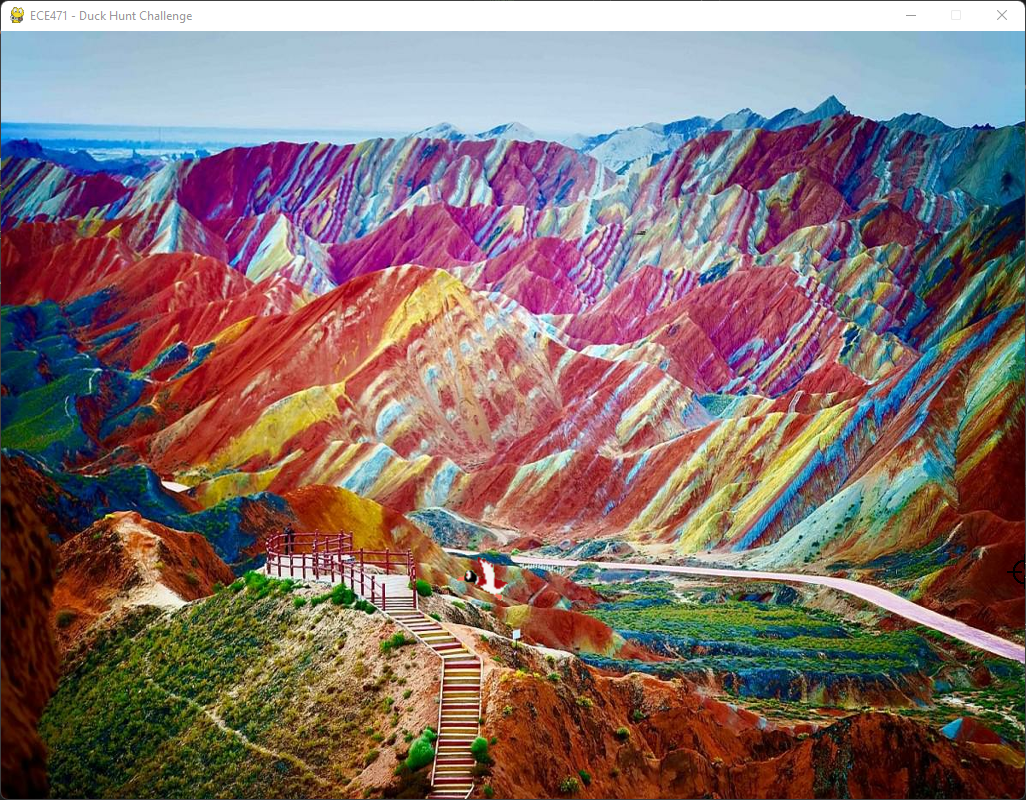red: (446, 557, 539, 607)
